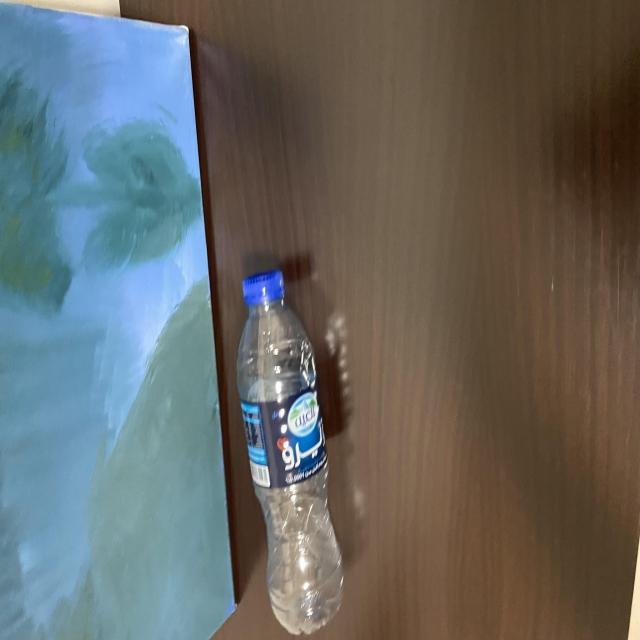bottle: (229, 248, 365, 640)
